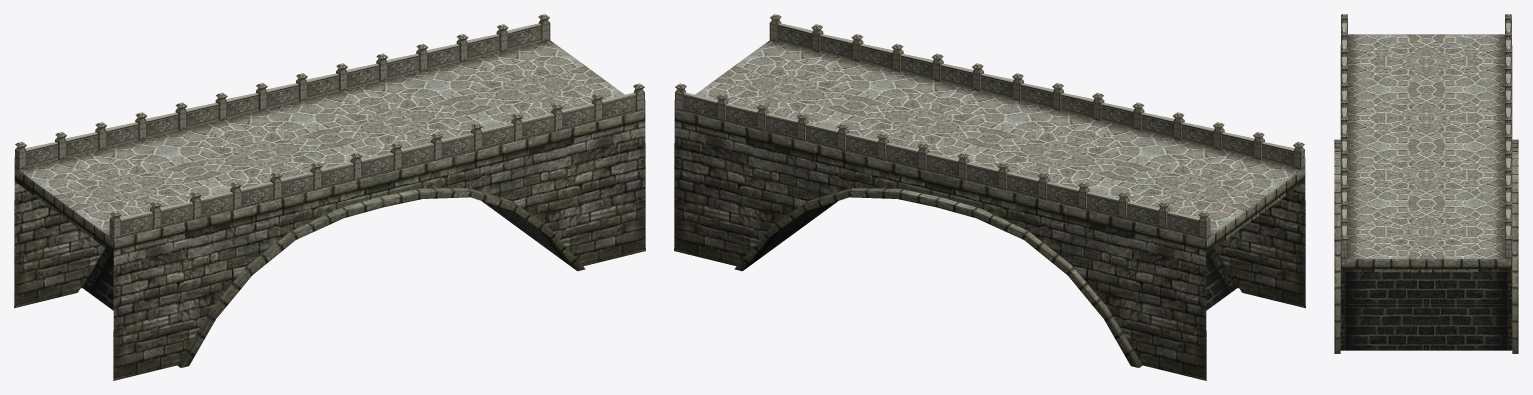
The model's file is b1-022-10m-bridge.fbx.
The picture shows the model from 3 angles, left to right: view 1: azimuth 30°, elevation 25°; view 2: azimuth 150°, elevation 25°; view 3: azimuth 270°, elevation 25°; orthographic projection. The views are drawn at different scales.
Visible parts, largest first — view 1: b1-022-10m-bridge; view 2: b1-022-10m-bridge; view 3: b1-022-10m-bridge.
Part boxes in pixels (<box>): b1-022-10m-bridge: <box>14,14,645,380</box>; b1-022-10m-bridge: <box>674,14,1305,380</box>; b1-022-10m-bridge: <box>1334,14,1518,353</box>.
Bounding box in the file's own units: 39.46 × 11.76 × 13.69.
